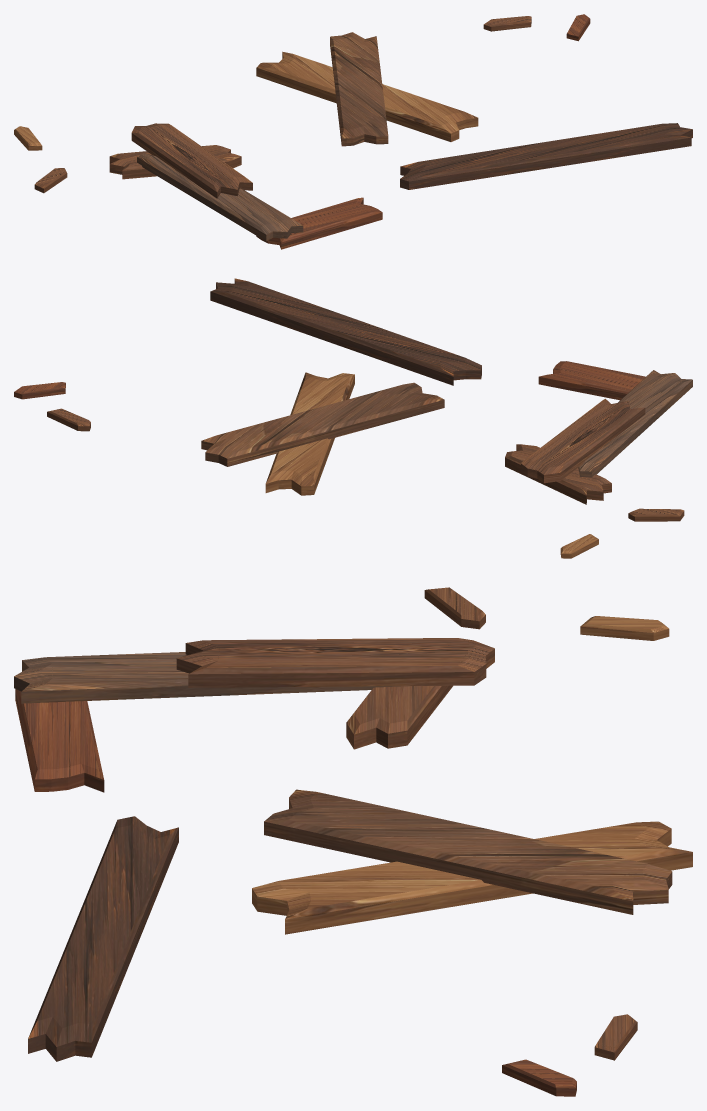
Rendered from junk_rubble_wood_e.glb.
3 views of the same model, one above another, from view 1: azimuth 30°, elevation 25°; view 2: azimuth 150°, elevation 25°; view 3: azimuth 270°, elevation 25° (orthographic). The views are drawn at different scales.
Visible parts, largest first — view 1: model; view 2: model; view 3: model.
Part boxes in pixels (<box>): model: <box>14,14,692,249</box>; model: <box>14,278,692,558</box>; model: <box>14,587,692,1096</box>.
Bounding box in the file's own units: 1.8 × 0.0824 × 1.03.
Materials: 8 (8 with a texture image).
